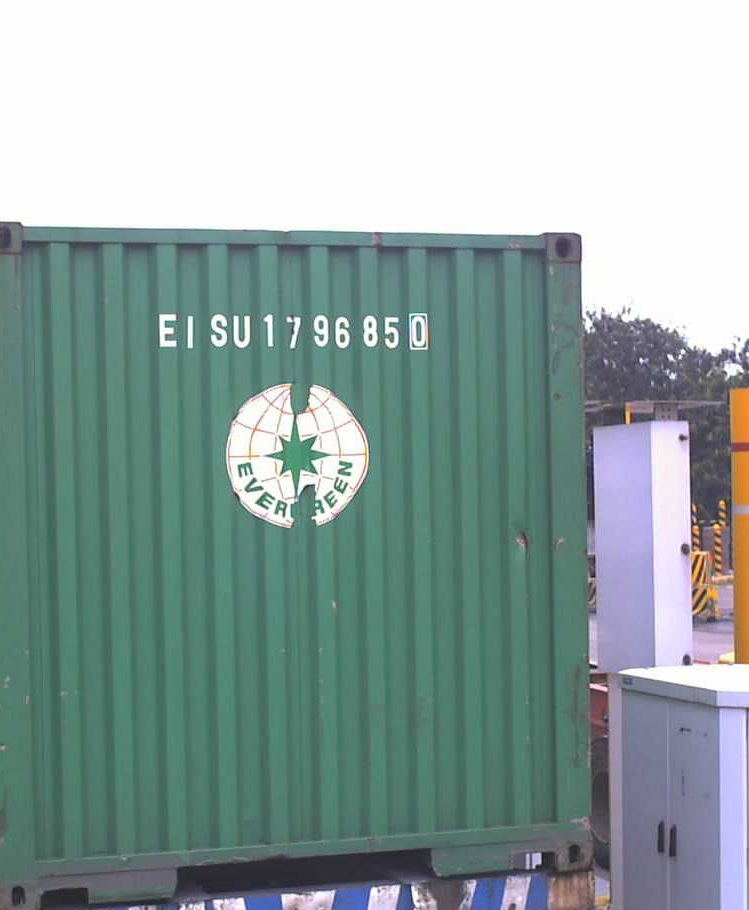container_no_door: (8, 232, 586, 909)
